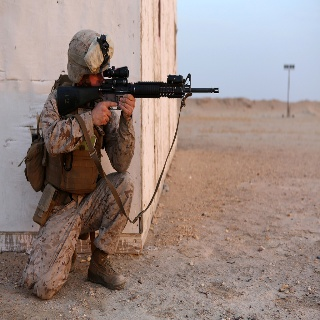rifle: (54, 64, 220, 122)
